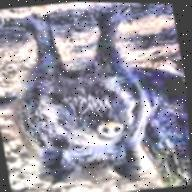boar: (0, 2, 165, 192)
